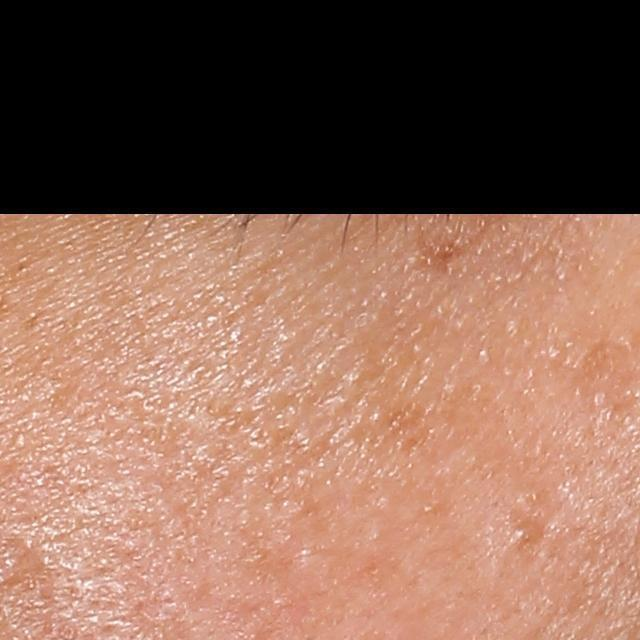comedo: (508, 519, 543, 550)
melasma: (412, 229, 490, 281), (382, 392, 433, 449)
